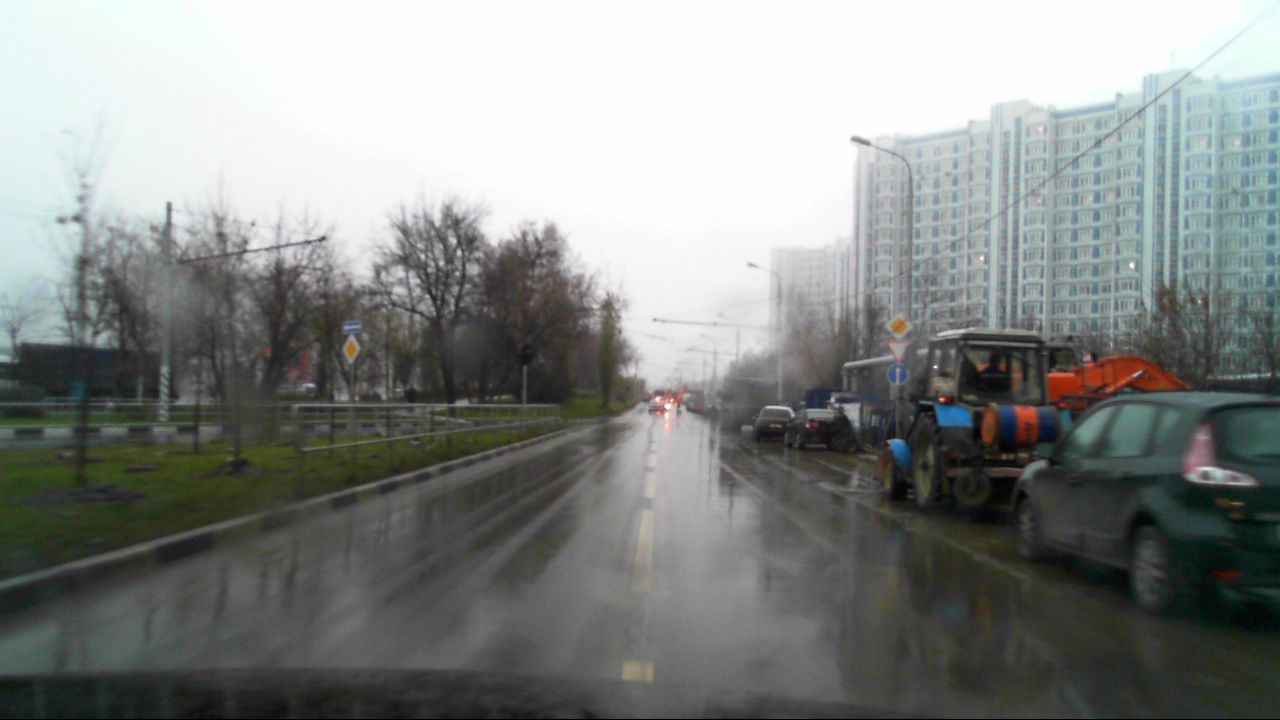main road: (885, 311, 913, 342)
